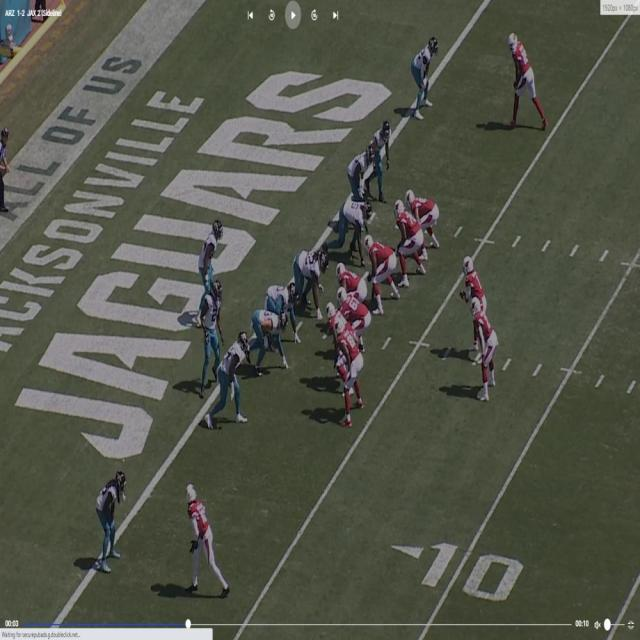center: (335, 257, 366, 305)
db: (95, 468, 128, 573), (200, 278, 223, 394), (190, 484, 217, 578), (410, 39, 437, 114)
lb: (208, 333, 250, 431), (198, 219, 226, 275), (373, 120, 391, 206), (349, 147, 374, 197)
qb: (467, 254, 491, 349)
skill: (334, 317, 366, 422), (508, 30, 544, 123), (474, 293, 499, 407), (407, 191, 440, 224)
